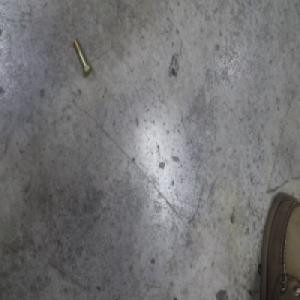Bolt: (70, 37, 91, 80)
